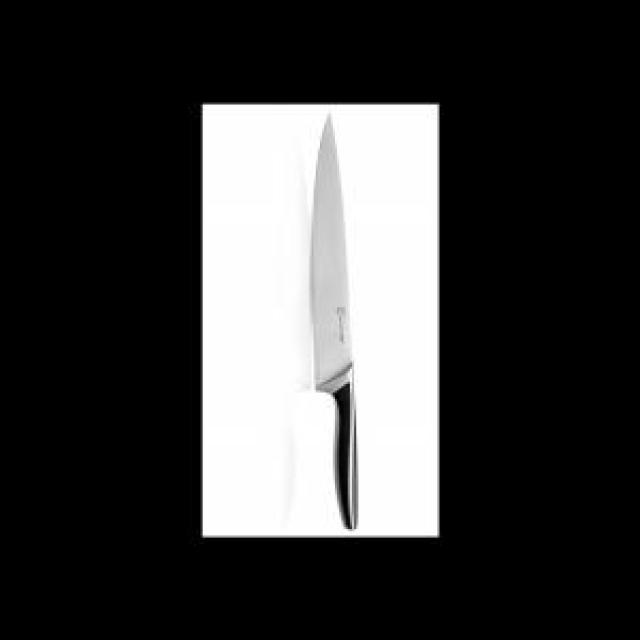knife: (312, 104, 370, 536)
